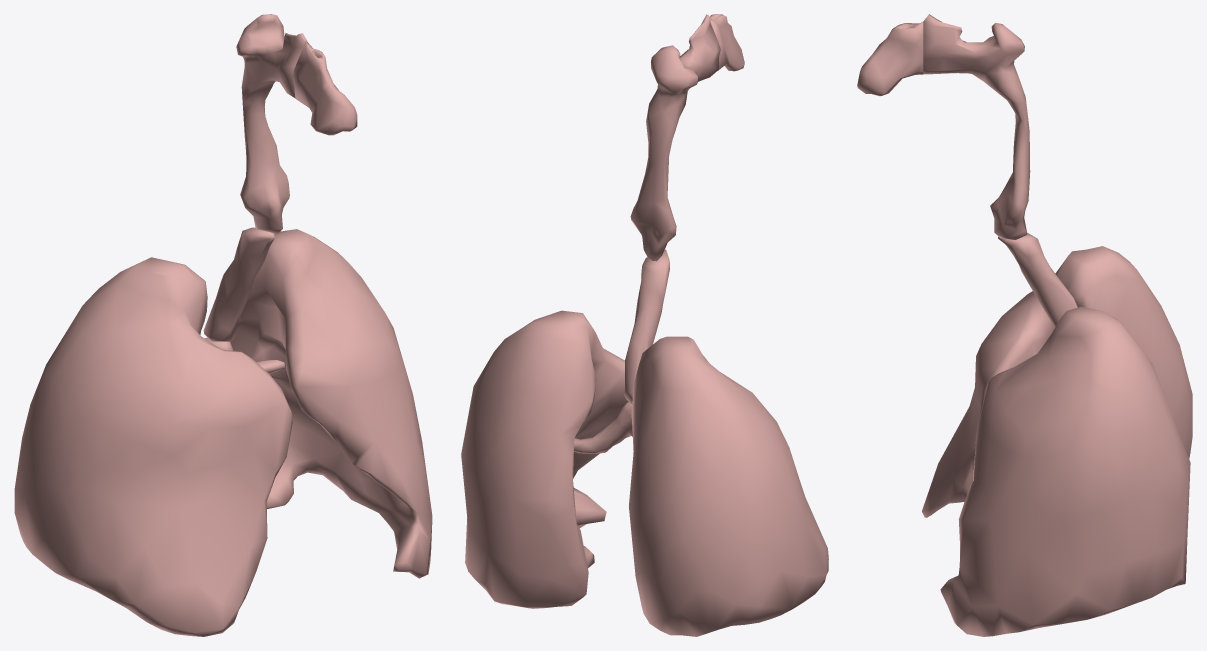
The model's file is icrp_adult_male.respiratory.LOD2.glb.
The picture shows the model from 3 angles, left to right: view 1: azimuth 30°, elevation 25°; view 2: azimuth 150°, elevation 25°; view 3: azimuth 270°, elevation 25°; orthographic projection. The views are drawn at different scales.
Visible parts, largest first — view 1: ICRP.ADULT.MALE.RESPIRATORY.LUNG.R, ICRP.ADULT.MALE.RESPIRATORY.LUNG.L, ICRP.ADULT.MALE.RESPIRATORY.EXTRATHORACIC_AIRWAY_ET2_POSTERI, ICRP.ADULT.MALE.RESPIRATORY.TRACHEA, ICRP.ADULT.MALE.RESPIRATORY.EXTRATHORACIC_AIRWAY_ET1_ANTERIO; view 2: ICRP.ADULT.MALE.RESPIRATORY.LUNG.R, ICRP.ADULT.MALE.RESPIRATORY.LUNG.L, ICRP.ADULT.MALE.RESPIRATORY.EXTRATHORACIC_AIRWAY_ET2_POSTERI, ICRP.ADULT.MALE.RESPIRATORY.TRACHEA, ICRP.ADULT.MALE.RESPIRATORY.BRONCHI_BB_REGION, ICRP.ADULT.MALE.RESPIRATORY.EXTRATHORACIC_AIRWAY_ET1_ANTERIO; view 3: ICRP.ADULT.MALE.RESPIRATORY.LUNG.L, ICRP.ADULT.MALE.RESPIRATORY.LUNG.R, ICRP.ADULT.MALE.RESPIRATORY.EXTRATHORACIC_AIRWAY_ET2_POSTERI, ICRP.ADULT.MALE.RESPIRATORY.EXTRATHORACIC_AIRWAY_ET1_ANTERIO, ICRP.ADULT.MALE.RESPIRATORY.TRACHEA.
Boxes of the visible parts, left/top/right/bottom form: ICRP.ADULT.MALE.RESPIRATORY.LUNG.R: left=14, top=257, right=292, bottom=636; ICRP.ADULT.MALE.RESPIRATORY.LUNG.L: left=230, top=229, right=432, bottom=578; ICRP.ADULT.MALE.RESPIRATORY.EXTRATHORACIC_AIRWAY_ET2_POSTERI: left=236, top=14, right=307, bottom=233; ICRP.ADULT.MALE.RESPIRATORY.TRACHEA: left=203, top=227, right=274, bottom=341; ICRP.ADULT.MALE.RESPIRATORY.EXTRATHORACIC_AIRWAY_ET1_ANTERIO: left=292, top=41, right=357, bottom=135; ICRP.ADULT.MALE.RESPIRATORY.LUNG.R: left=629, top=336, right=828, bottom=636; ICRP.ADULT.MALE.RESPIRATORY.LUNG.L: left=461, top=310, right=628, bottom=608; ICRP.ADULT.MALE.RESPIRATORY.EXTRATHORACIC_AIRWAY_ET2_POSTERI: left=630, top=14, right=720, bottom=261; ICRP.ADULT.MALE.RESPIRATORY.TRACHEA: left=624, top=249, right=669, bottom=404; ICRP.ADULT.MALE.RESPIRATORY.BRONCHI_BB_REGION: left=574, top=401, right=632, bottom=453; ICRP.ADULT.MALE.RESPIRATORY.EXTRATHORACIC_AIRWAY_ET1_ANTERIO: left=709, top=14, right=744, bottom=71; ICRP.ADULT.MALE.RESPIRATORY.LUNG.L: left=940, top=306, right=1190, bottom=636; ICRP.ADULT.MALE.RESPIRATORY.LUNG.R: left=922, top=246, right=1192, bottom=517; ICRP.ADULT.MALE.RESPIRATORY.EXTRATHORACIC_AIRWAY_ET2_POSTERI: left=923, top=14, right=1030, bottom=239; ICRP.ADULT.MALE.RESPIRATORY.EXTRATHORACIC_AIRWAY_ET1_ANTERIO: left=857, top=21, right=923, bottom=96; ICRP.ADULT.MALE.RESPIRATORY.TRACHEA: left=998, top=232, right=1077, bottom=327.
Bounding box in the file's own units: 0.263 × 0.4125 × 0.2271.
